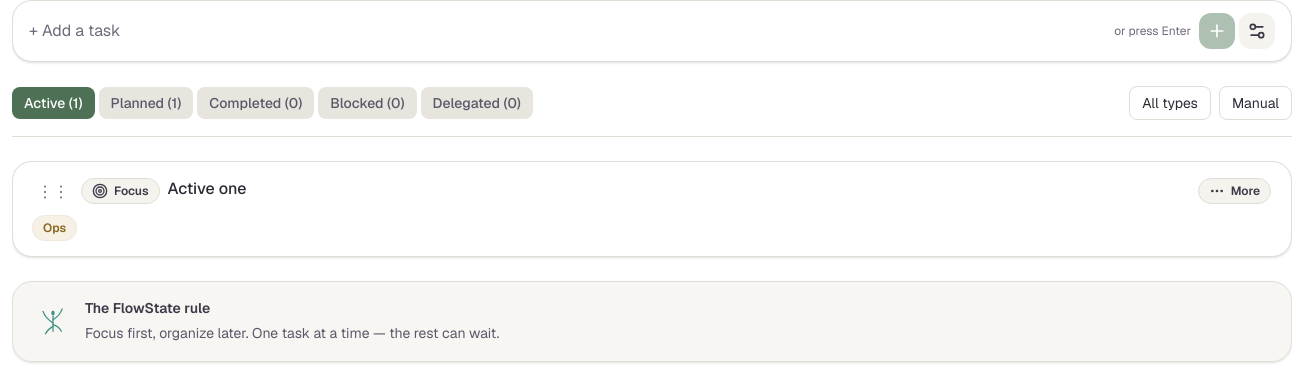
Test case: TaskList › switches to the Planned tab and shows planned tasks
What coordinates should you click on to do the following:
click the tab "Planned (1)"
I would click on:
 (146, 103)
Its box is [99,87,193,119].
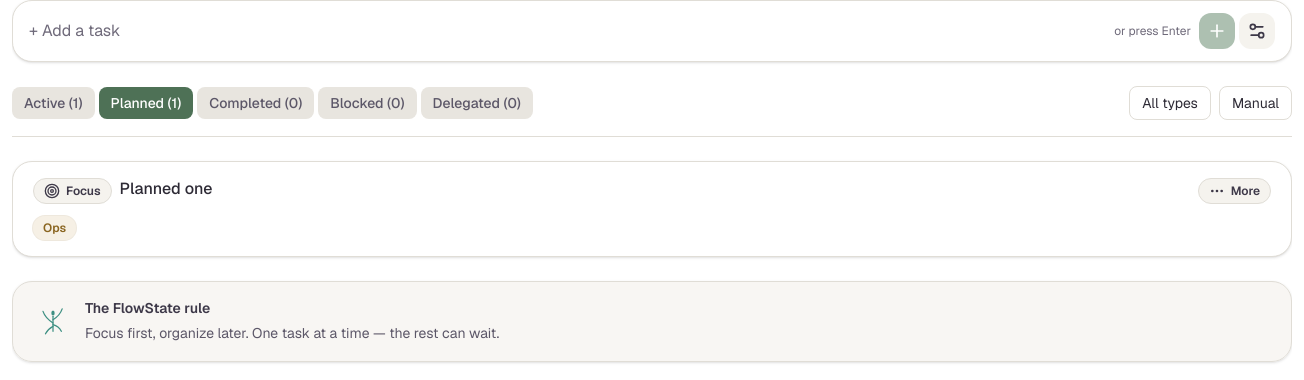
Expected: the button "Planned one" is shown, [120,178,1190,200]
Expected: the button "Active one" is gone
